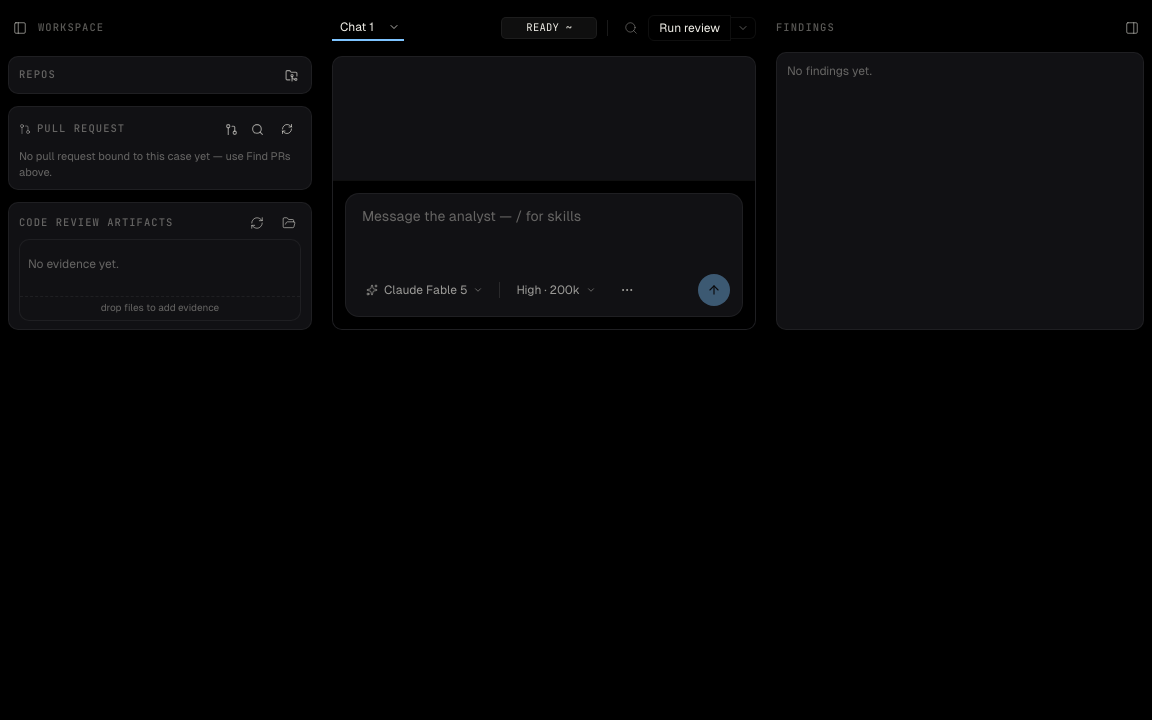
Test case: CaseWorkspace mode switching › closes an already-open Find-PRs dialog when the case is switched
The width and height of the screenshot is (1152, 720).
Click the button named "Find PRs" at (257, 129), box [247,119,267,139]
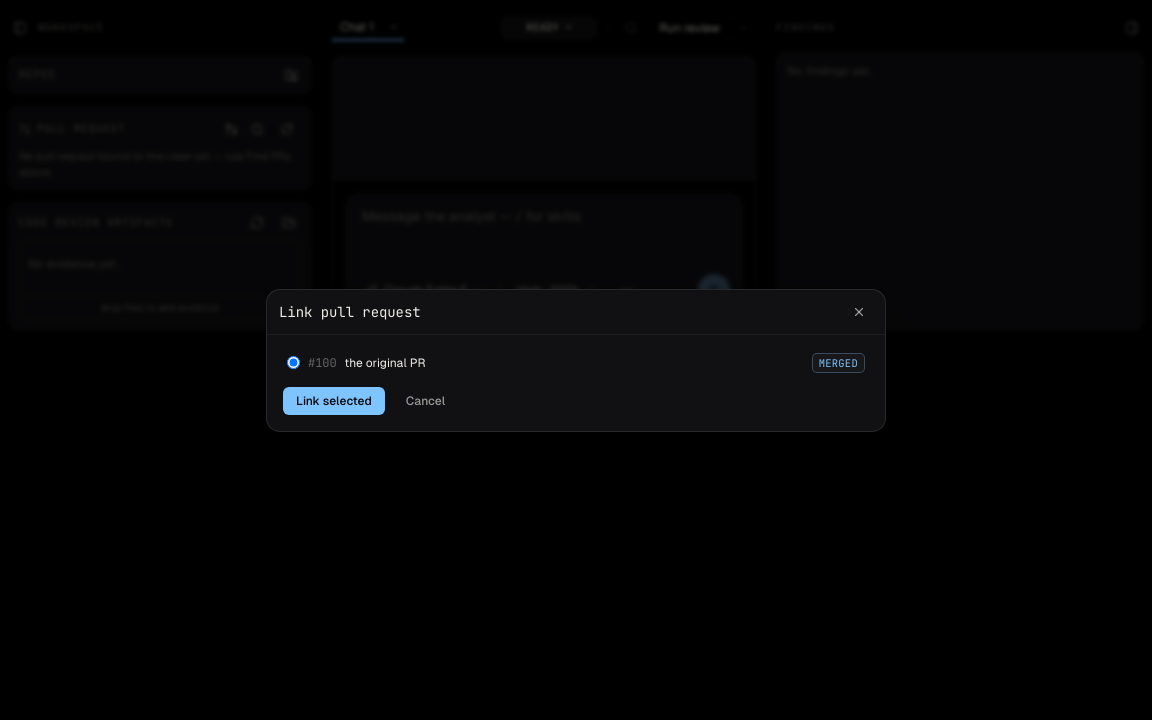
Expected: the button "Link selected" is shown, [283,386,385,414]
